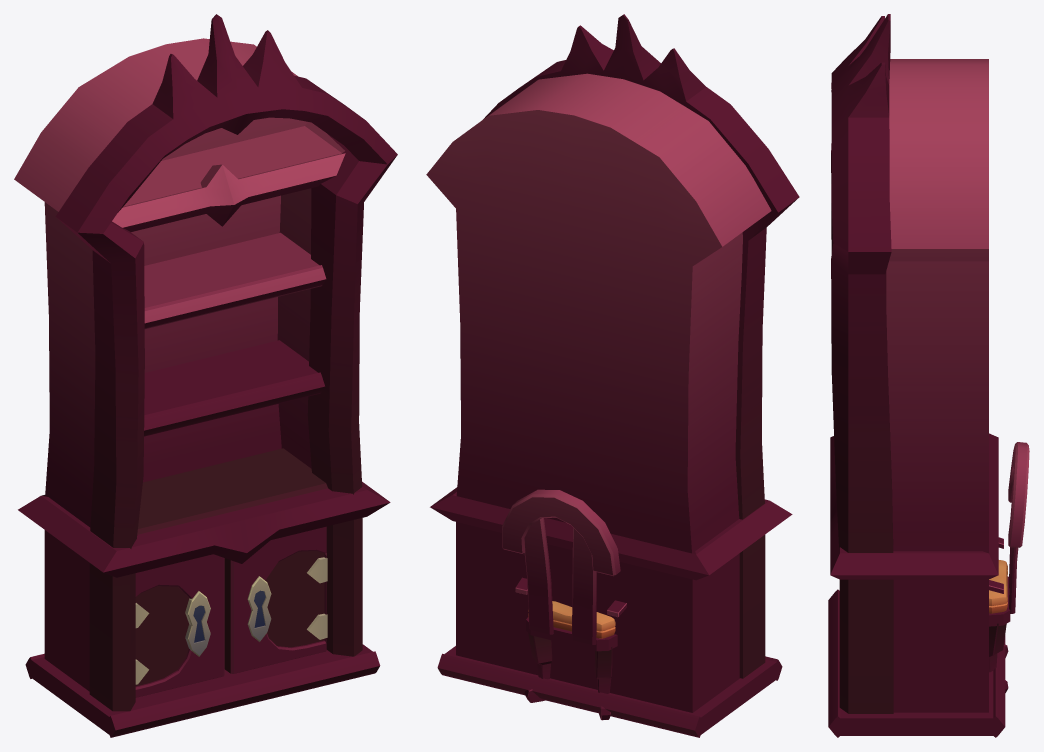
File: otherprops.fbx
3 renders of one model, left to right at view 1: azimuth 30°, elevation 25°; view 2: azimuth 150°, elevation 25°; view 3: azimuth 270°, elevation 25°, orthographic. The views are drawn at different scales.
Visible parts, largest first — view 1: shelf; view 2: shelf, chair; view 3: shelf, chair.
Part boxes in pixels (x1,y1,x2,y2): shelf: (14, 14, 397, 737); shelf: (426, 14, 799, 737); chair: (502, 489, 626, 720); shelf: (828, 14, 1005, 737); chair: (989, 442, 1029, 692).
Bounding box in the file's own units: 130 × 261 × 71.76.
1 material, 1 textured.
